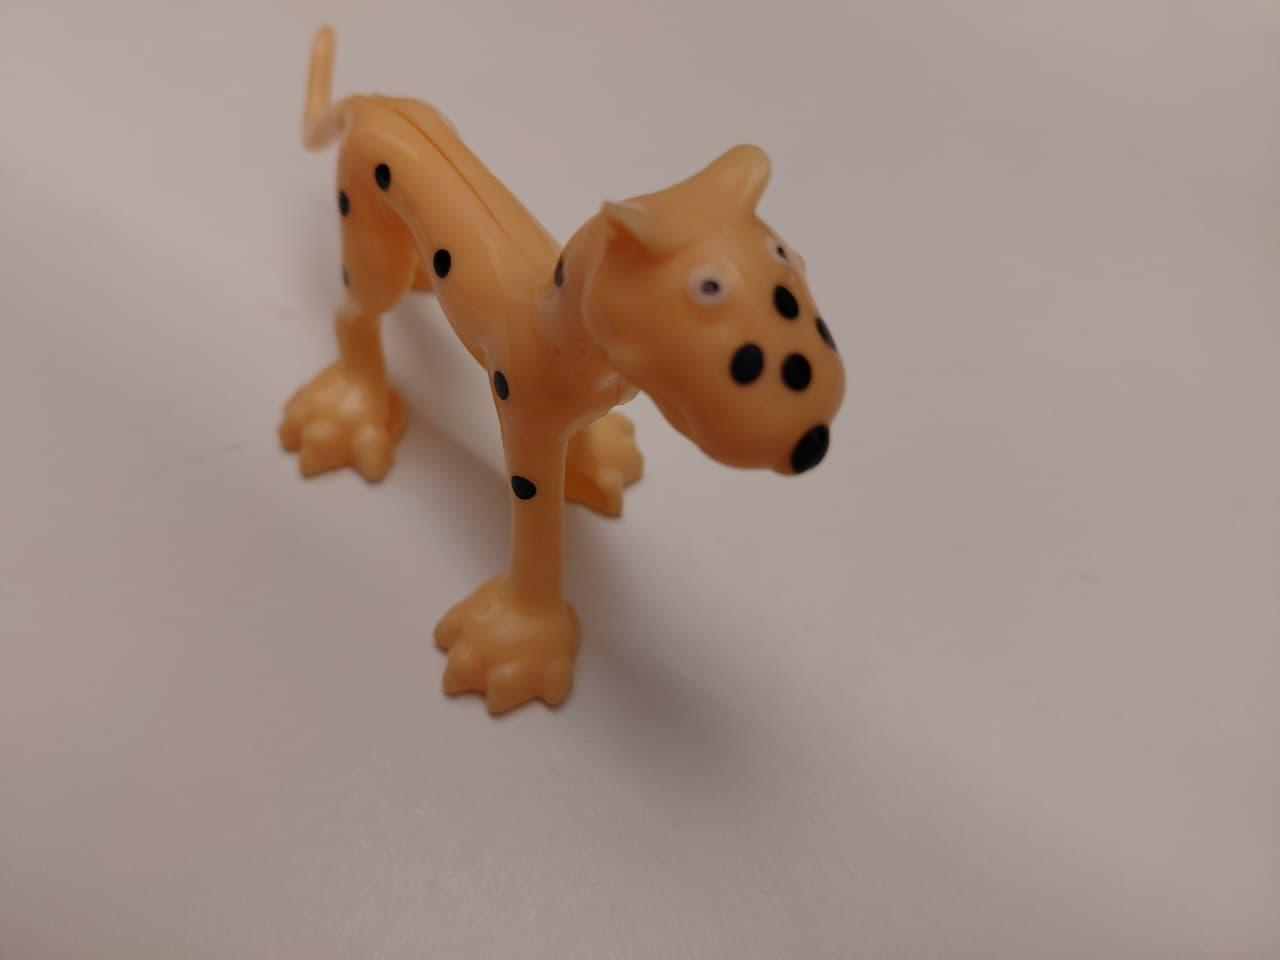cheetah: (266, 4, 861, 738)
